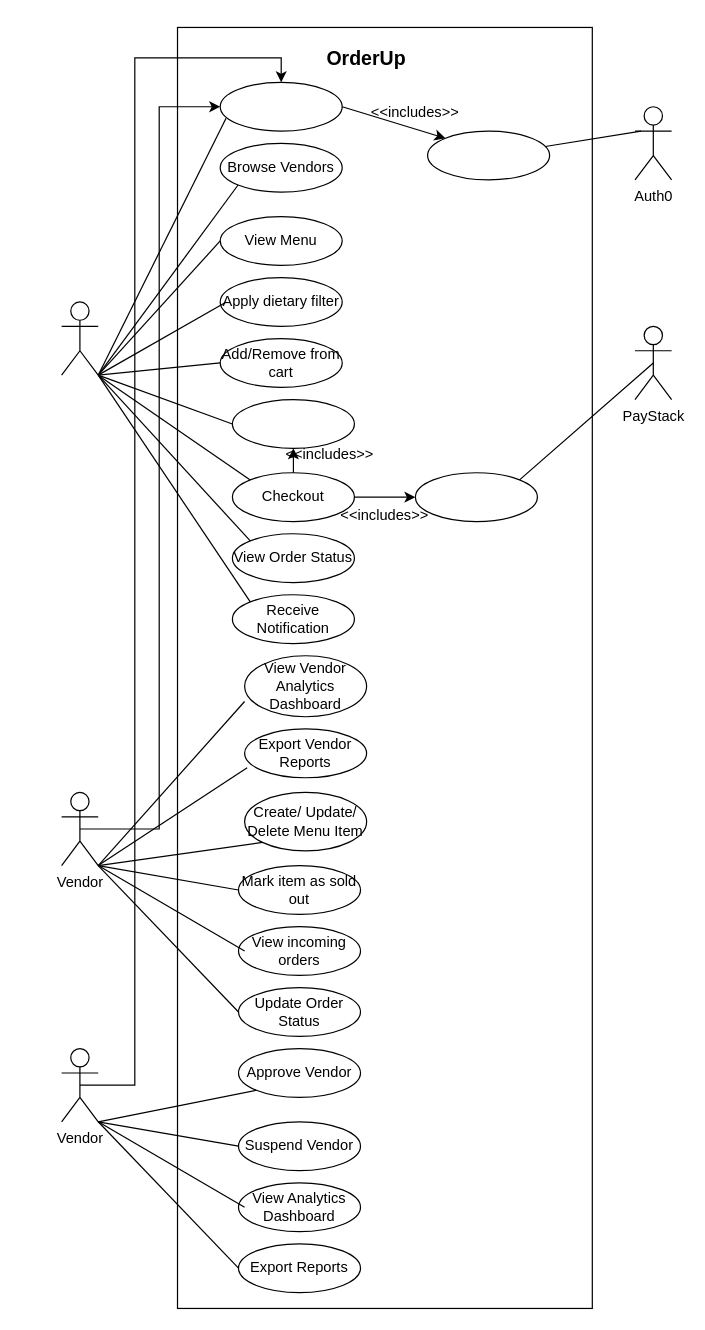
Image size: 705x1330. Some labels were removed from this diagram. Each missing label, with the centre of its shape:
"Authenticate user" belongs at (488,155).
"Place Order" belongs at (292,423).
"Process payment" belongs at (475,497).
"Sign in" belongs at (280,106).
"Student/Customer" belongs at (79,338).
